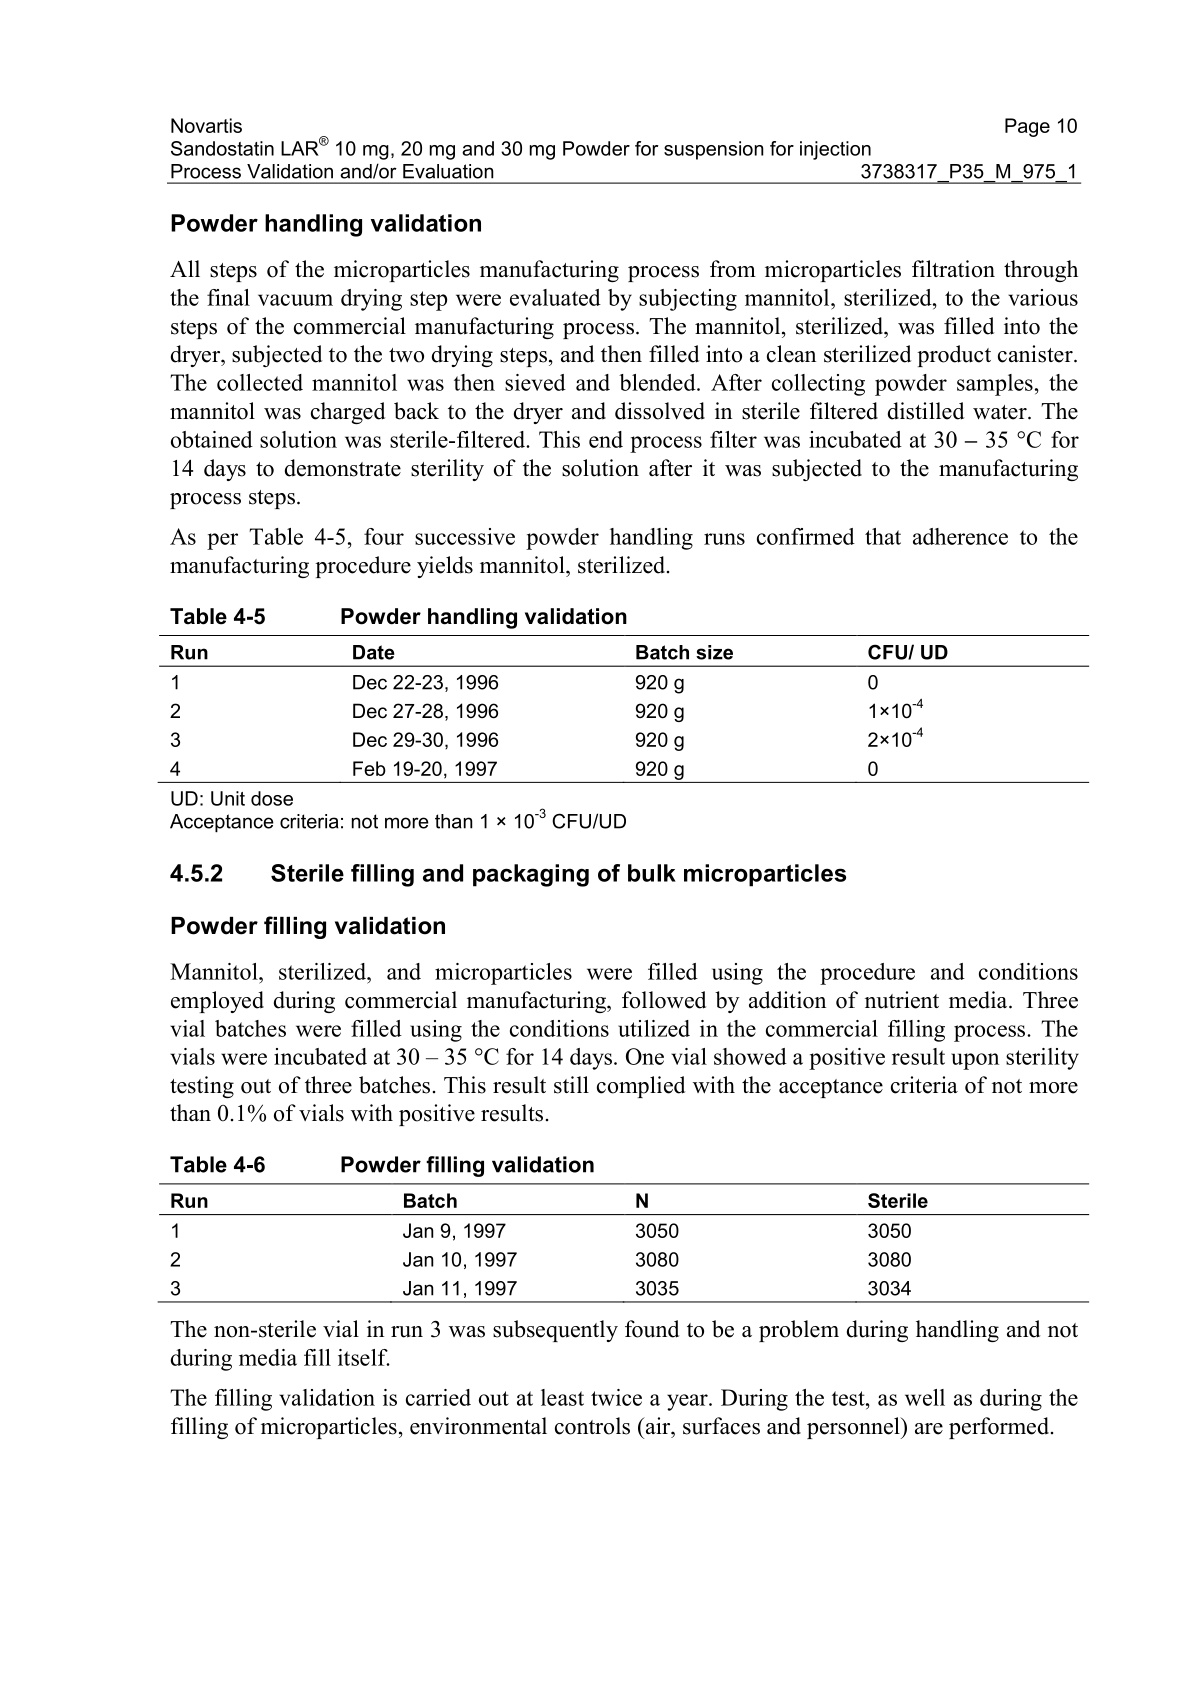partial_lined: (159, 633, 1090, 785), (159, 1182, 1090, 1305)
